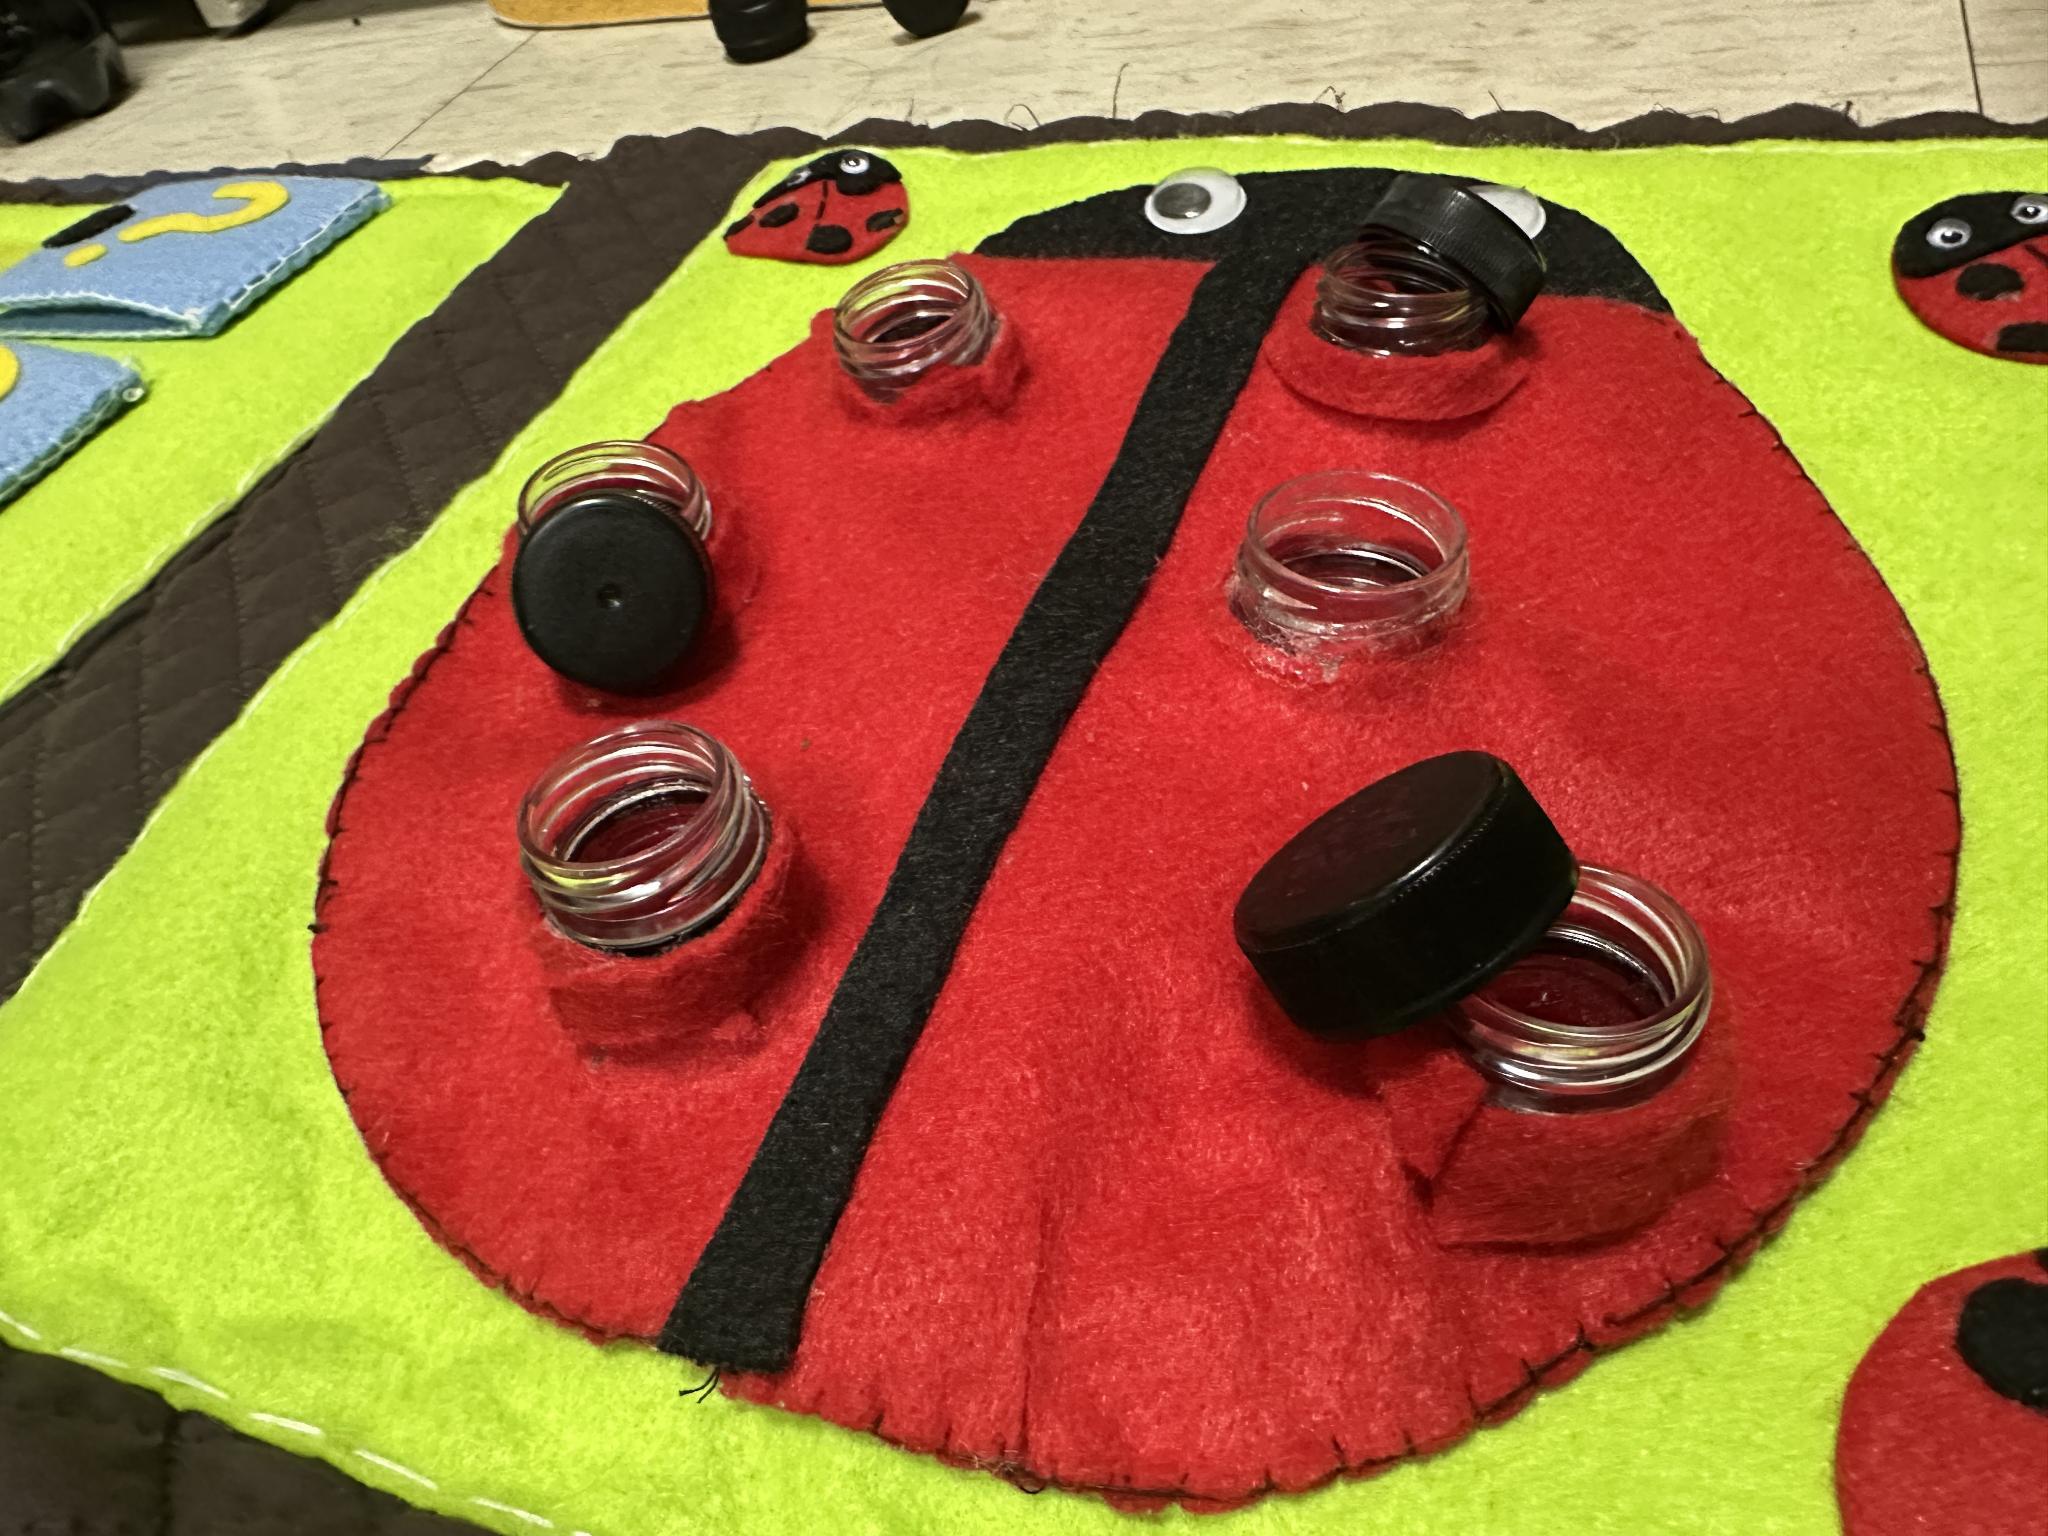cap_ng: (1227, 742, 1750, 1270), (1298, 163, 1576, 457), (495, 428, 745, 707)
